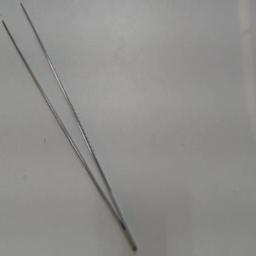DeBakey Dissector: (2, 0, 146, 254)
